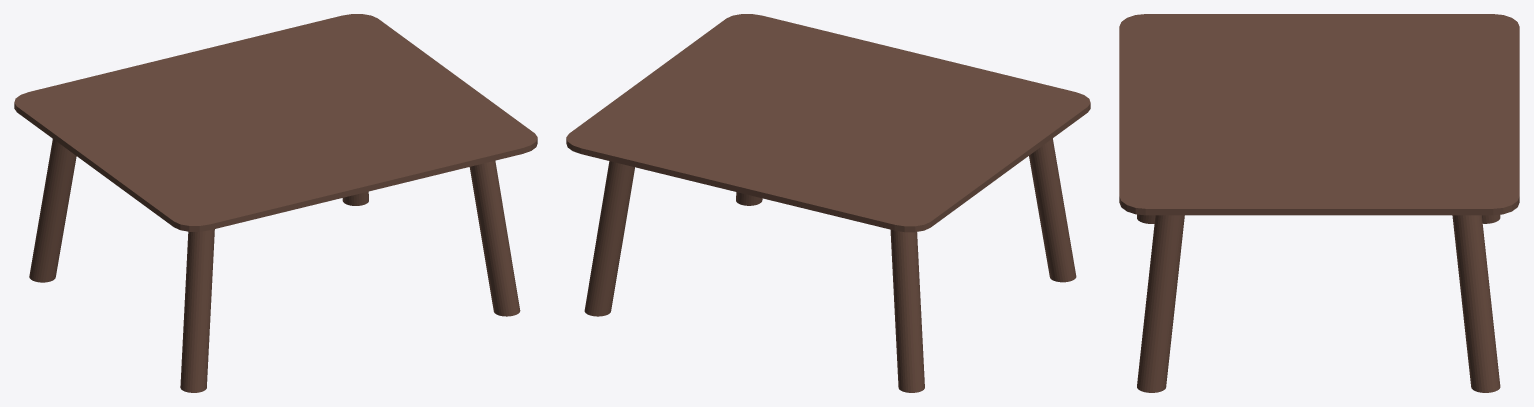
The model's file is table.fbx.
3 renders of one model, left to right at view 1: azimuth 30°, elevation 25°; view 2: azimuth 150°, elevation 25°; view 3: azimuth 270°, elevation 25°, orthographic. The views are drawn at different scales.
Parts seen in each view (by area): view 1: Plane.001; view 2: Plane.001; view 3: Plane.001.
Part boxes in pixels (x1=…): Plane.001: x1=14, y1=14, x2=537, y2=392; Plane.001: x1=566, y1=14, x2=1090, y2=392; Plane.001: x1=1119, y1=14, x2=1519, y2=392.
Bounding box in the file's own units: 394 × 181 × 342.
